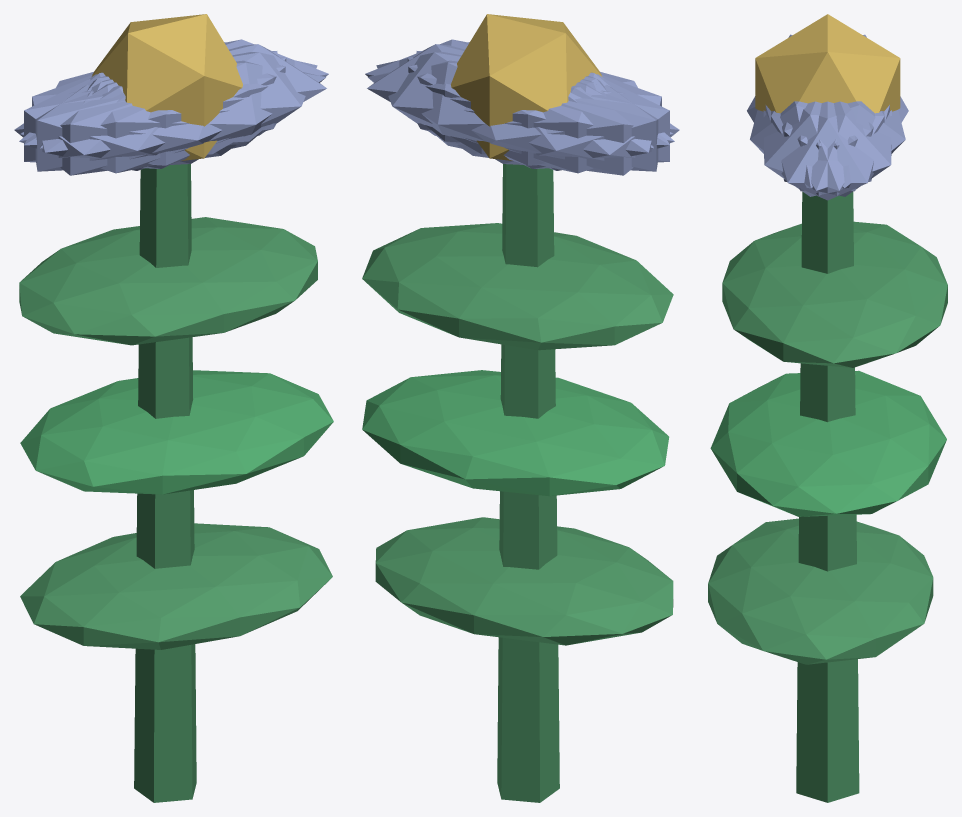
File: typhonium-roxburghii.glb
The picture shows the model from 3 angles, left to right: view 1: azimuth 30°, elevation 25°; view 2: azimuth 150°, elevation 25°; view 3: azimuth 270°, elevation 25°; orthographic projection.
Visible parts, largest first — view 1: leaf1, leaf0, leaf2, stem, center, petal1, petal6, petal2, petal5, petal7, petal0, petal4 (+2 smaller); view 2: leaf2, leaf1, leaf0, stem, center, petal8, petal3, petal7, petal4, petal2, petal0, petal5 (+2 smaller); view 3: leaf1, leaf2, leaf0, stem, center, petal0, petal5, petal4, petal8, petal1.
Part boxes in pixels (x1,y1,x2,y2): leaf1: (20, 370, 333, 494); leaf0: (20, 523, 332, 649); leaf2: (19, 217, 317, 345); stem: (134, 164, 196, 802); center: (91, 14, 242, 160); petal1: (19, 60, 325, 173); petal6: (14, 74, 236, 175); petal2: (35, 51, 277, 171); petal5: (40, 52, 317, 165); petal7: (24, 57, 286, 168); petal0: (91, 44, 326, 154); petal4: (20, 39, 328, 145); leaf2: (362, 223, 673, 350); leaf1: (362, 370, 669, 496); leaf0: (375, 517, 673, 645); stem: (497, 164, 559, 802); center: (451, 14, 602, 160); petal8: (368, 60, 674, 173); petal3: (457, 74, 679, 175); petal7: (416, 51, 658, 171); petal4: (376, 52, 653, 165); petal2: (407, 57, 669, 168); petal0: (367, 44, 602, 154); petal5: (365, 39, 673, 145); leaf1: (710, 370, 946, 516); leaf2: (722, 221, 947, 367); leaf0: (708, 518, 933, 664); stem: (796, 191, 859, 802); center: (755, 14, 900, 113); petal0: (765, 101, 889, 200); petal5: (763, 101, 884, 196); petal4: (771, 101, 891, 196); petal8: (782, 101, 905, 188); petal1: (750, 101, 873, 188).
Size of the model in its own units: 0.1452 by 0.3518 by 0.1011.
